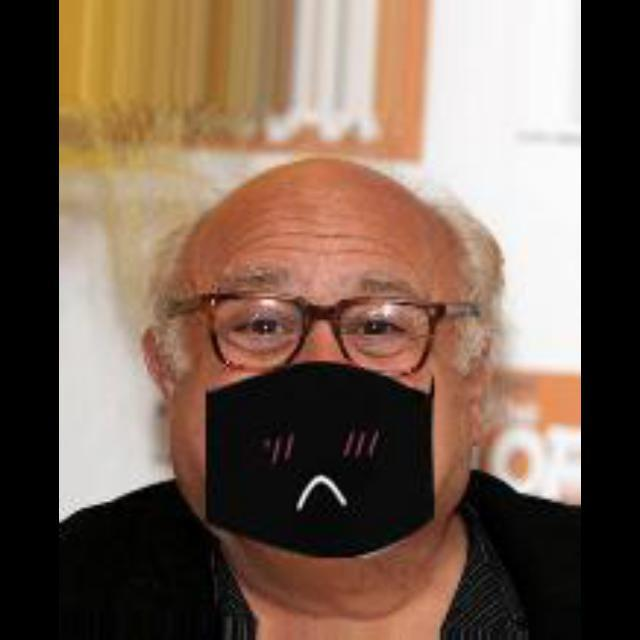suspicion: (101, 149, 526, 545)
